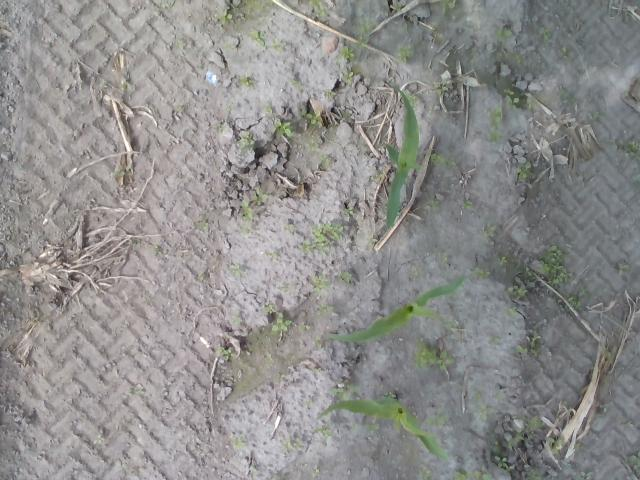Maize: (322, 273, 468, 345), (314, 396, 450, 462), (382, 77, 424, 228)
Weeds: (540, 243, 574, 286), (303, 221, 342, 256), (413, 346, 455, 368), (487, 104, 504, 143), (354, 15, 375, 43), (328, 383, 359, 400), (428, 152, 460, 168), (516, 334, 541, 353), (270, 314, 292, 332), (453, 470, 492, 480), (276, 118, 294, 138), (629, 448, 640, 479), (438, 0, 458, 17), (503, 432, 523, 449), (506, 88, 520, 110), (310, 0, 327, 18), (524, 416, 543, 432), (478, 406, 498, 420), (508, 283, 528, 297), (240, 200, 254, 220), (282, 438, 305, 450), (312, 273, 328, 289), (427, 414, 449, 425), (567, 294, 582, 310), (240, 131, 254, 148), (627, 140, 640, 158), (423, 199, 441, 212), (432, 80, 448, 94), (304, 110, 320, 124), (252, 32, 266, 48), (317, 427, 334, 440), (472, 268, 490, 280), (494, 456, 510, 469), (482, 224, 496, 238), (304, 138, 318, 152), (252, 190, 266, 204), (220, 9, 232, 24), (398, 48, 412, 60), (418, 468, 432, 480), (290, 78, 302, 92), (526, 470, 542, 480), (318, 304, 334, 314), (323, 89, 336, 101), (221, 348, 234, 360), (338, 271, 352, 282), (389, 2, 404, 12), (486, 335, 502, 344), (340, 46, 353, 57), (241, 76, 255, 86), (462, 199, 474, 210), (520, 265, 532, 276), (496, 30, 512, 38), (498, 254, 509, 265), (550, 440, 562, 450), (230, 264, 240, 276), (342, 70, 354, 80), (296, 322, 306, 334), (514, 53, 524, 65), (198, 222, 210, 232), (580, 471, 593, 480), (562, 46, 570, 60), (507, 307, 517, 318), (618, 264, 630, 273), (517, 168, 527, 178), (344, 207, 354, 216), (264, 304, 274, 313), (543, 31, 551, 42)
